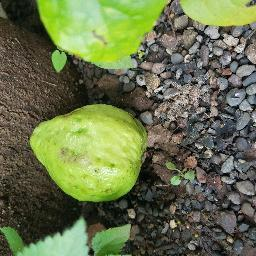Good_guava: (27, 106, 146, 201)
